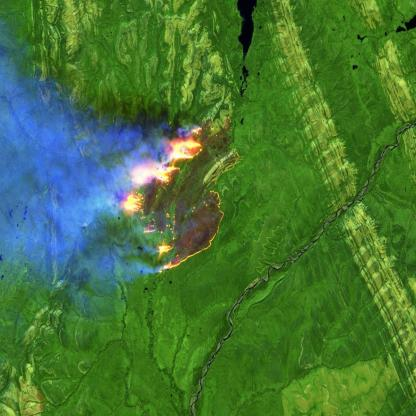fire: (116, 126, 227, 272)
